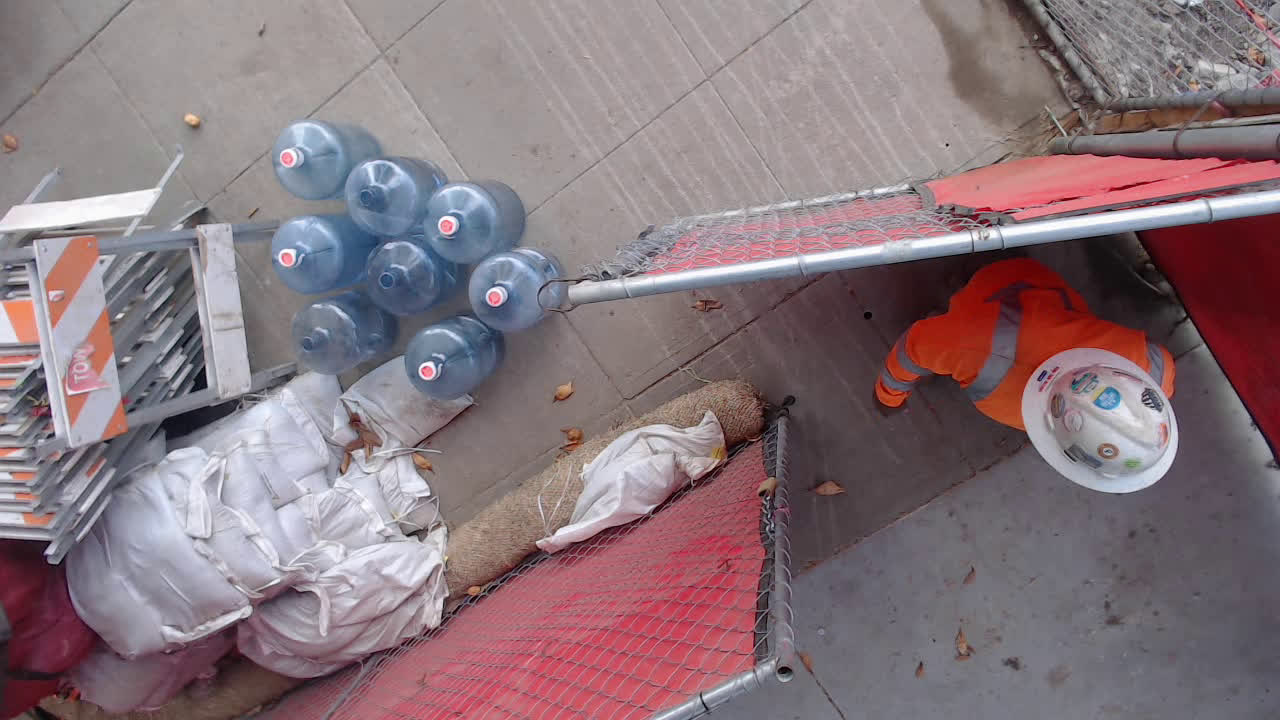hardhat: (1021, 346, 1175, 499)
safetyvest: (876, 264, 1174, 438)
